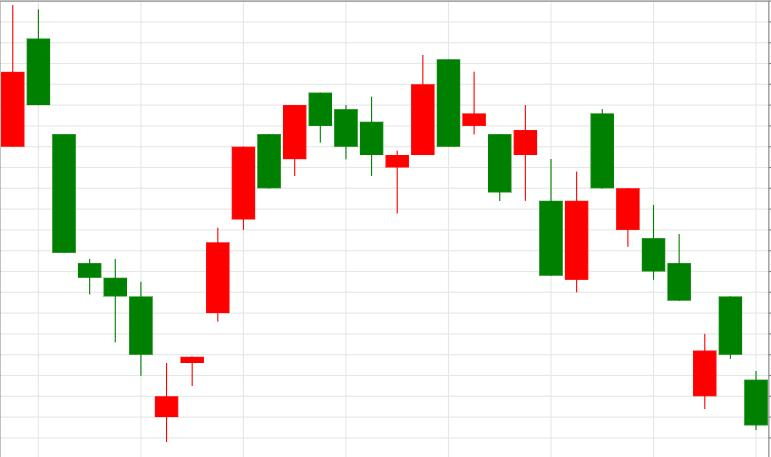morning_star_rise: (309, 55, 435, 212)
